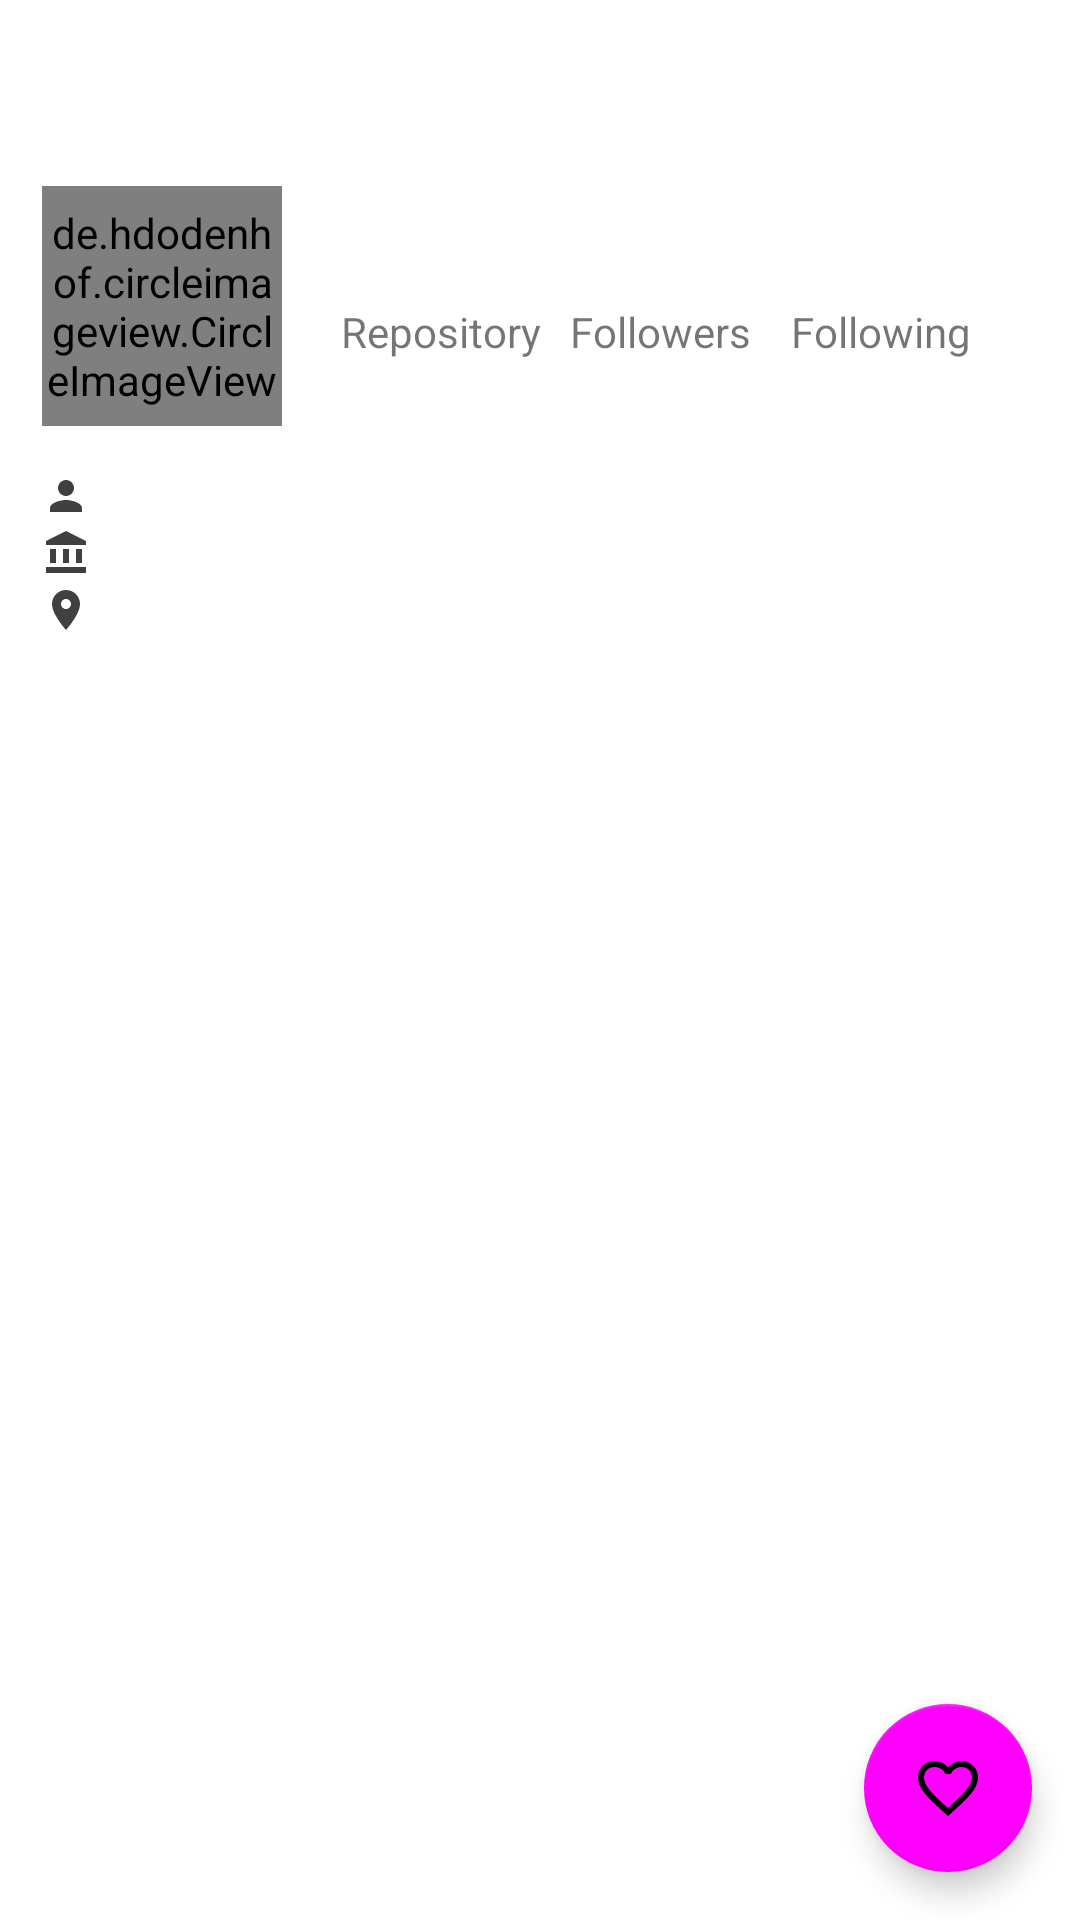

Icon bounding boxes for this 1080 x 1920 phone screenshot, format box(x1, y1, x2, y2):
favorite: box(864, 1704, 1032, 1872)
